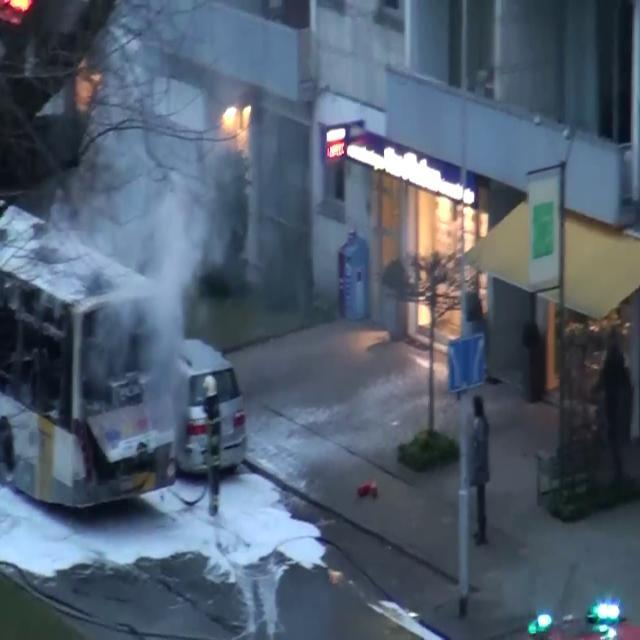Smoke: (24, 1, 282, 454)
